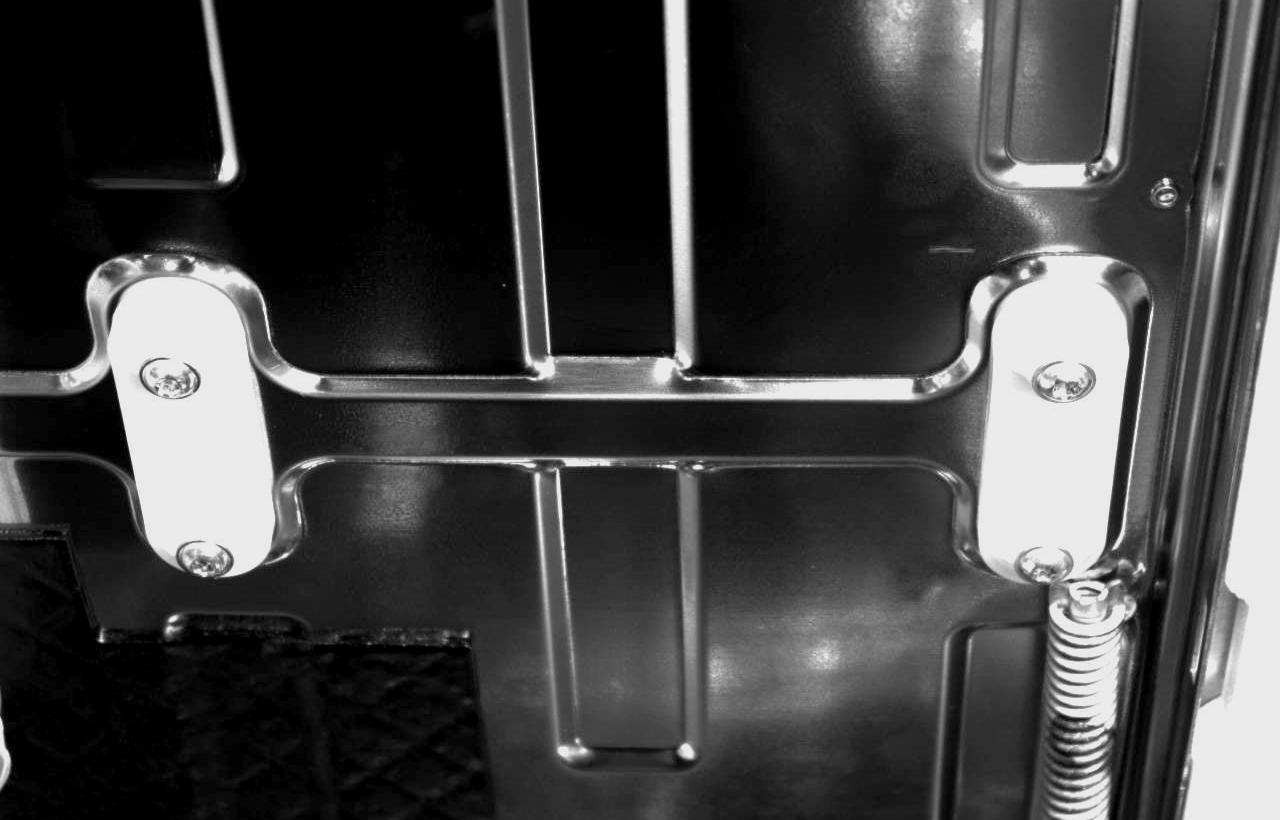vida-ok: (126, 341, 212, 418), (1029, 327, 1117, 400), (158, 522, 239, 587), (1018, 520, 1094, 578)
